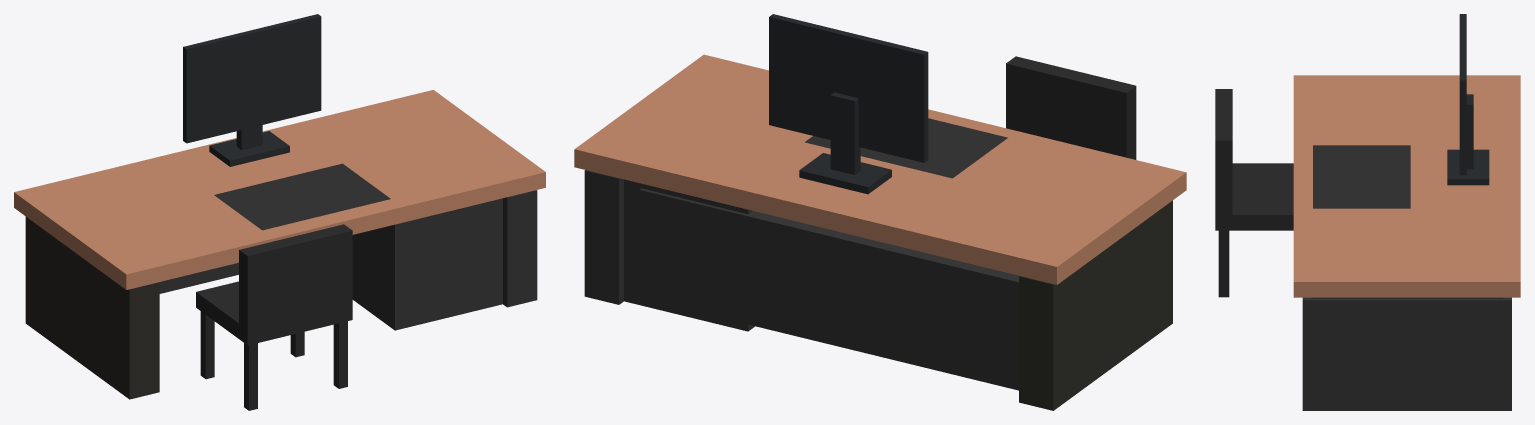
Rendered from Meja-dosen.glb.
3 views of the same model, side by side, from view 1: azimuth 30°, elevation 25°; view 2: azimuth 150°, elevation 25°; view 3: azimuth 270°, elevation 25° (orthographic). The views are drawn at different scales.
Parts seen in each view (by area): view 1: Cube.001, Cube.004, Cube.020, Cube.010, Cube.015, Plane, Cube.002, Cube.014, Cube.012, Cube.003, Cube.019, Cube.016 (+2 smaller); view 2: Cube.001, Cube.003, Cube.020, Cube.010, Cube.015, Cube.002, Plane, Cube.004, Cube.011, Cube.012; view 3: Cube.001, Cube.002, Plane, Cube.014, Cube.015, Cube.010, Cube.012, Cube.019, Cube.011, Cube.004.
Boxes of the visible parts, <box> form: Cube.001: <box>14,90,545,289</box>; Cube.004: <box>352,198,502,330</box>; Cube.020: <box>25,216,159,399</box>; Cube.010: <box>183,14,321,143</box>; Cube.015: <box>239,224,352,330</box>; Plane: <box>214,163,390,230</box>; Cube.002: <box>503,190,537,307</box>; Cube.014: <box>196,281,352,345</box>; Cube.012: <box>209,131,289,166</box>; Cube.003: <box>159,262,238,293</box>; Cube.019: <box>333,321,347,388</box>; Cube.016: <box>200,311,214,379</box>; Cube.001: <box>574,54,1186,284</box>; Cube.003: <box>639,188,1018,390</box>; Cube.020: <box>1019,200,1172,410</box>; Cube.010: <box>769,14,928,162</box>; Cube.015: <box>1006,56,1136,159</box>; Cube.002: <box>584,170,623,304</box>; Plane: <box>805,118,1007,178</box>; Cube.004: <box>624,179,754,331</box>; Cube.011: <box>830,92,860,174</box>; Cube.012: <box>799,153,891,194</box>; Cube.001: <box>1293,75,1520,297</box>; Cube.002: <box>1302,297,1511,410</box>; Plane: <box>1313,145,1410,208</box>; Cube.014: <box>1215,163,1293,230</box>; Cube.015: <box>1215,89,1232,219</box>; Cube.010: <box>1459,14,1466,175</box>; Cube.012: <box>1447,149,1489,185</box>; Cube.019: <box>1218,230,1229,297</box>; Cube.011: <box>1466,94,1473,169</box>; Cube.004: <box>1311,297,1503,298</box>.
Size of the model in its own units: 2.8 by 1.66 by 1.75.
